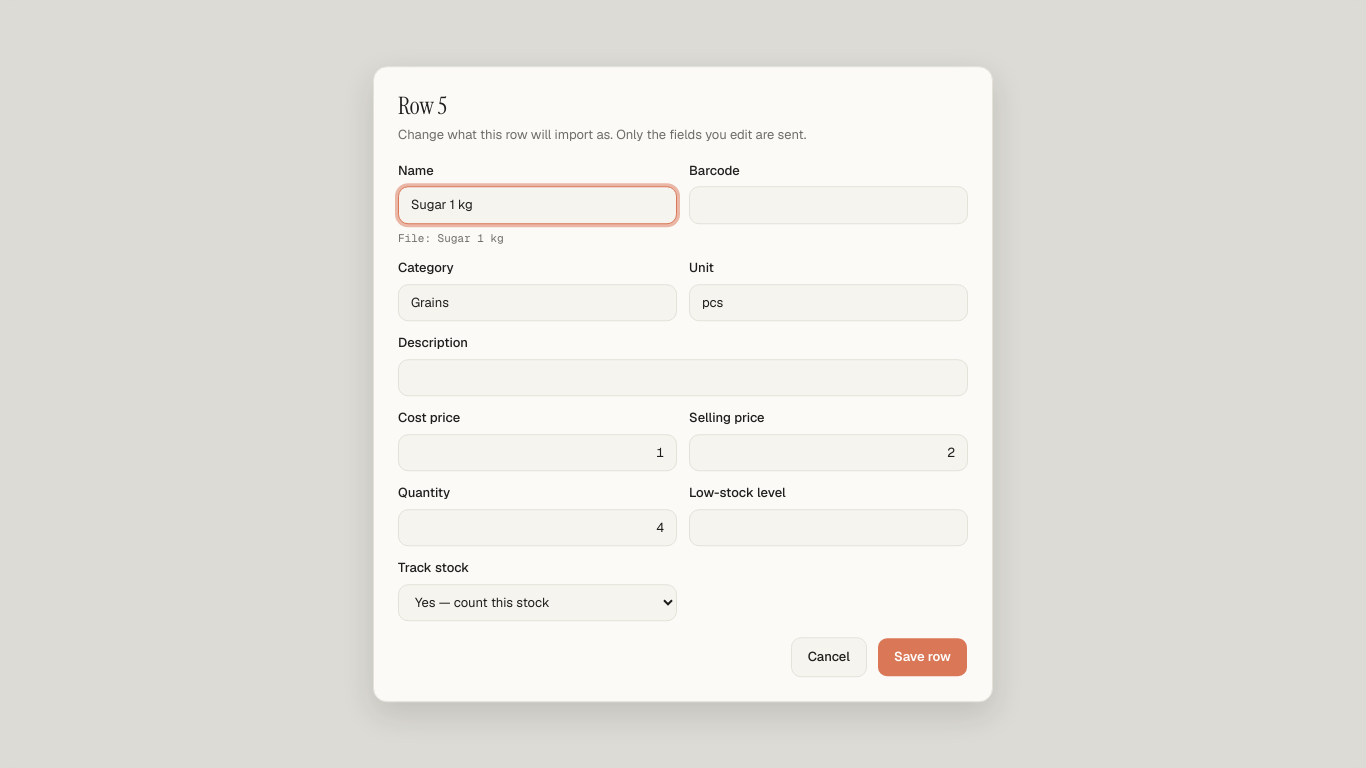
Test case: FixRowDialog — what it tells the reviewer › has somewhere to put an object-level 422, which is keyed '_'
Replace the text in the field labelled "Name" with "Sugar 2 kg" at (538, 205), box [398,186,677,224]
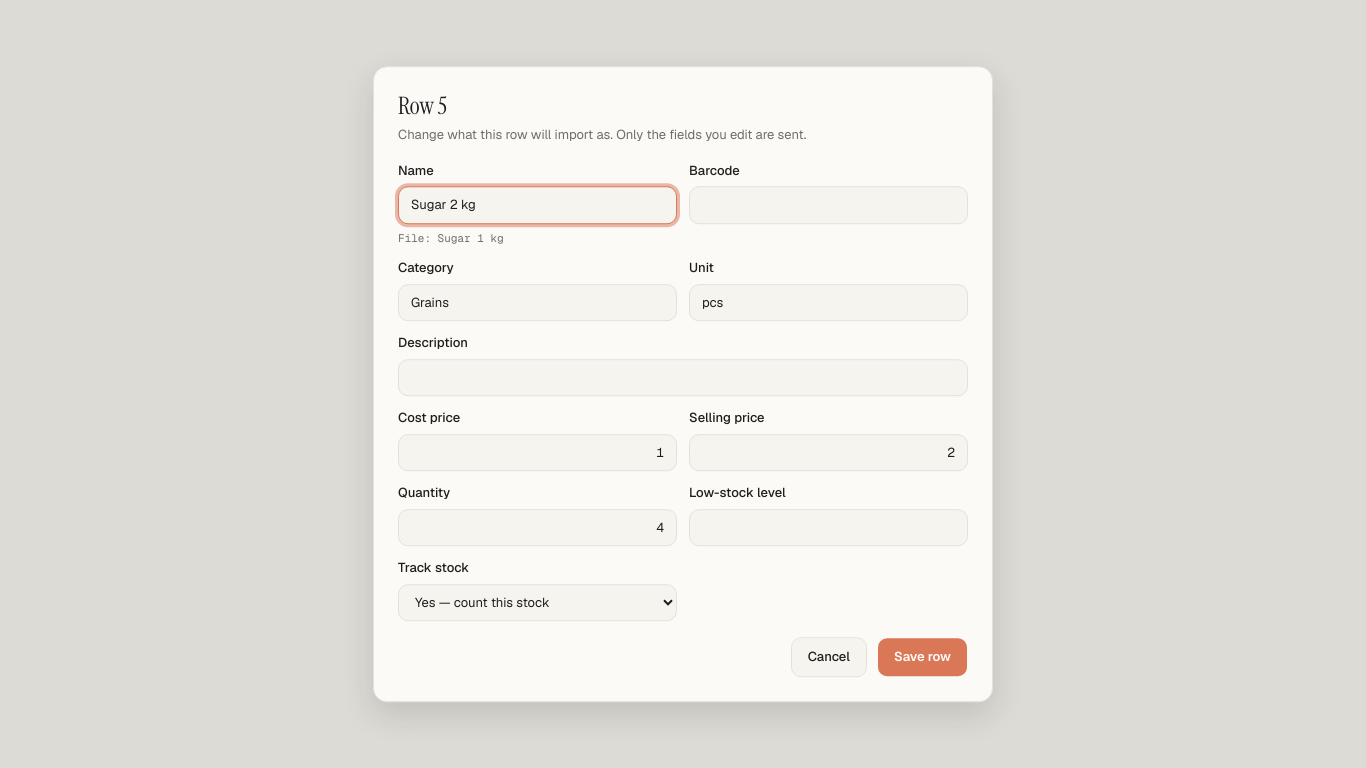
Click the button "Save row" at (922, 657), box [877,637,968,677]
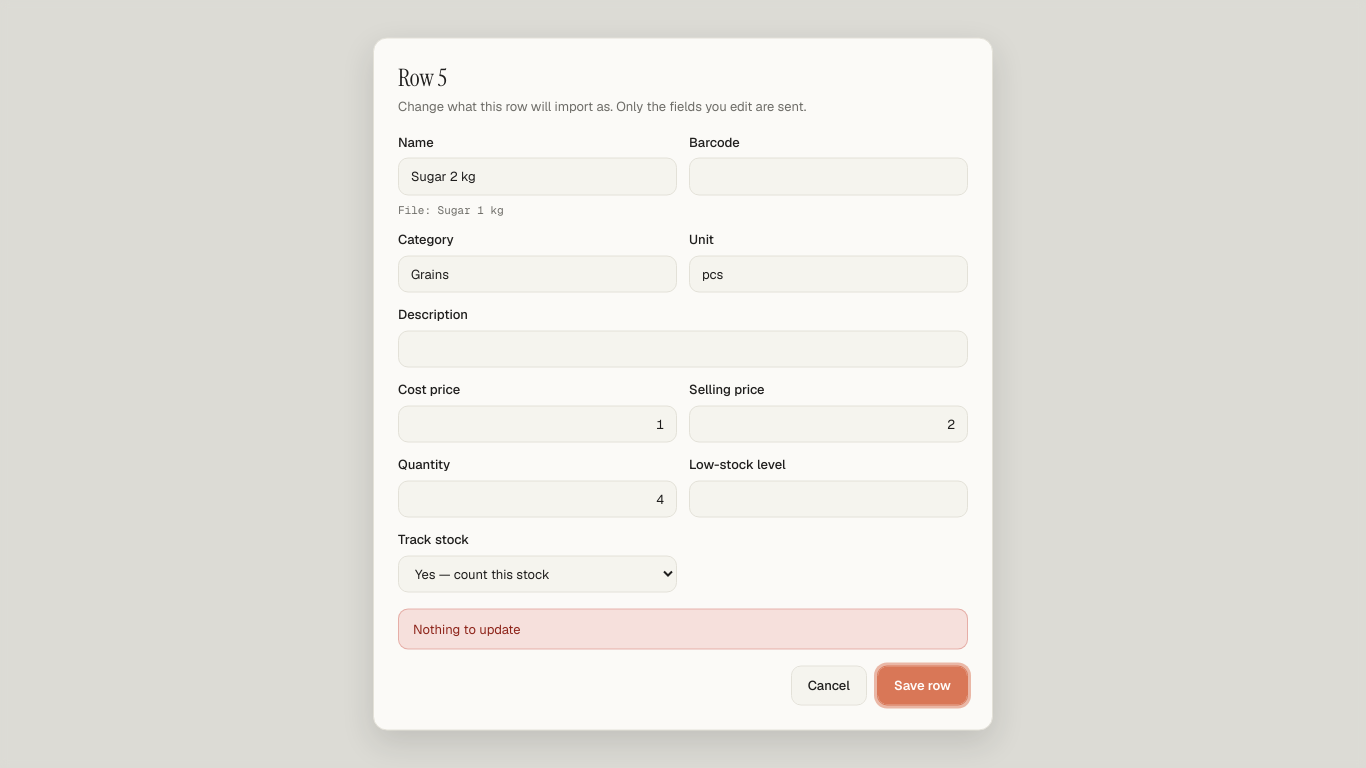
Expected: the message reads "Nothing to update", [413,620,520,637]
